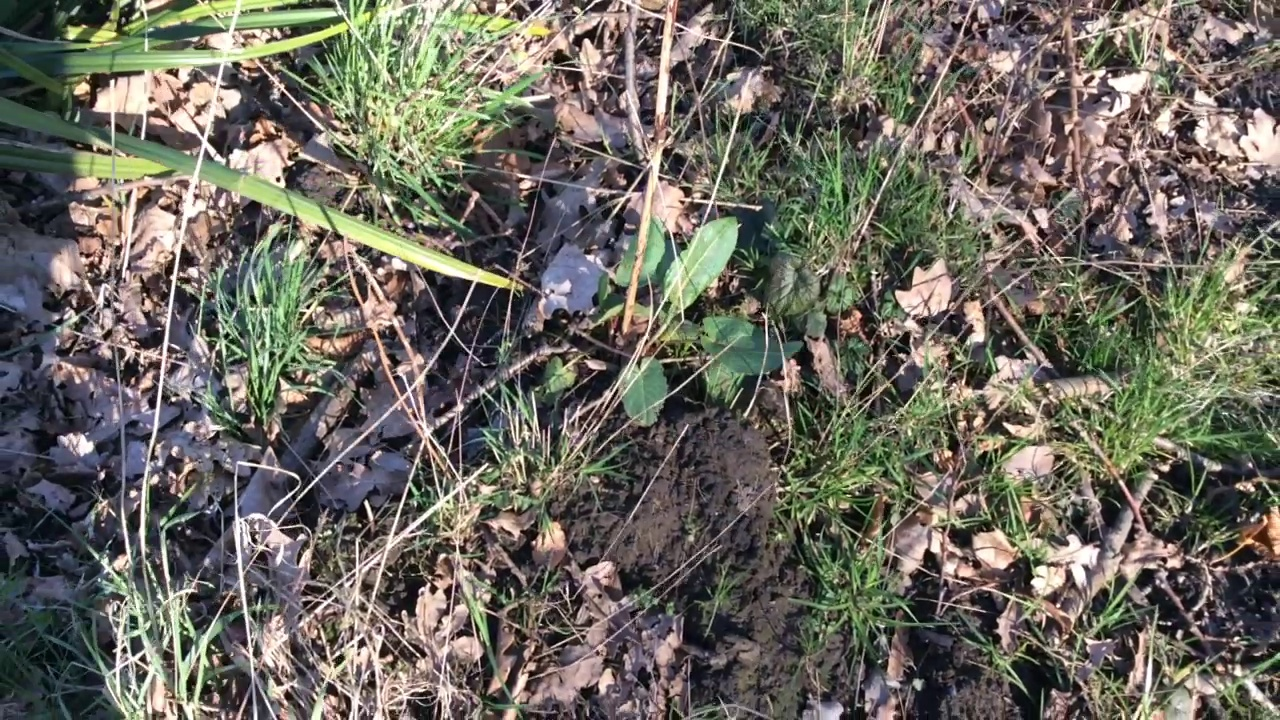rumex: (542, 213, 804, 428)
